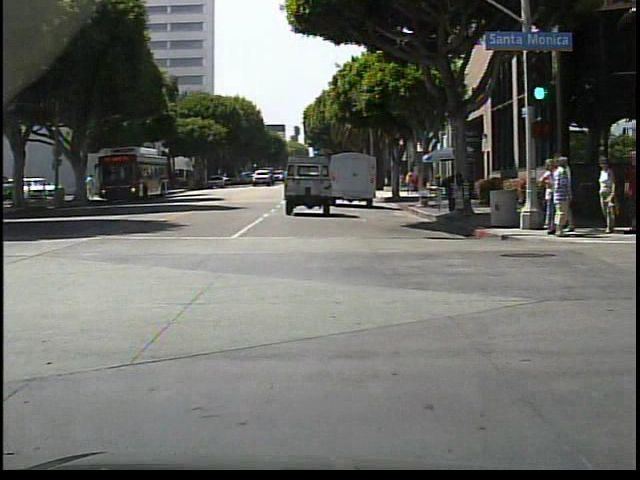person: (545, 155, 576, 244), (552, 153, 580, 243), (593, 157, 616, 232), (621, 148, 640, 234), (541, 159, 555, 230), (86, 173, 96, 201), (76, 176, 85, 201), (405, 170, 413, 194), (399, 170, 405, 196)
